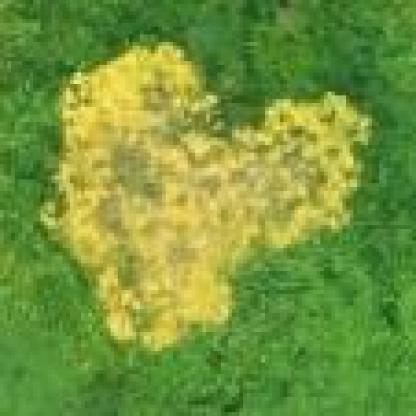Deciduous Tree: (28, 23, 370, 374)
